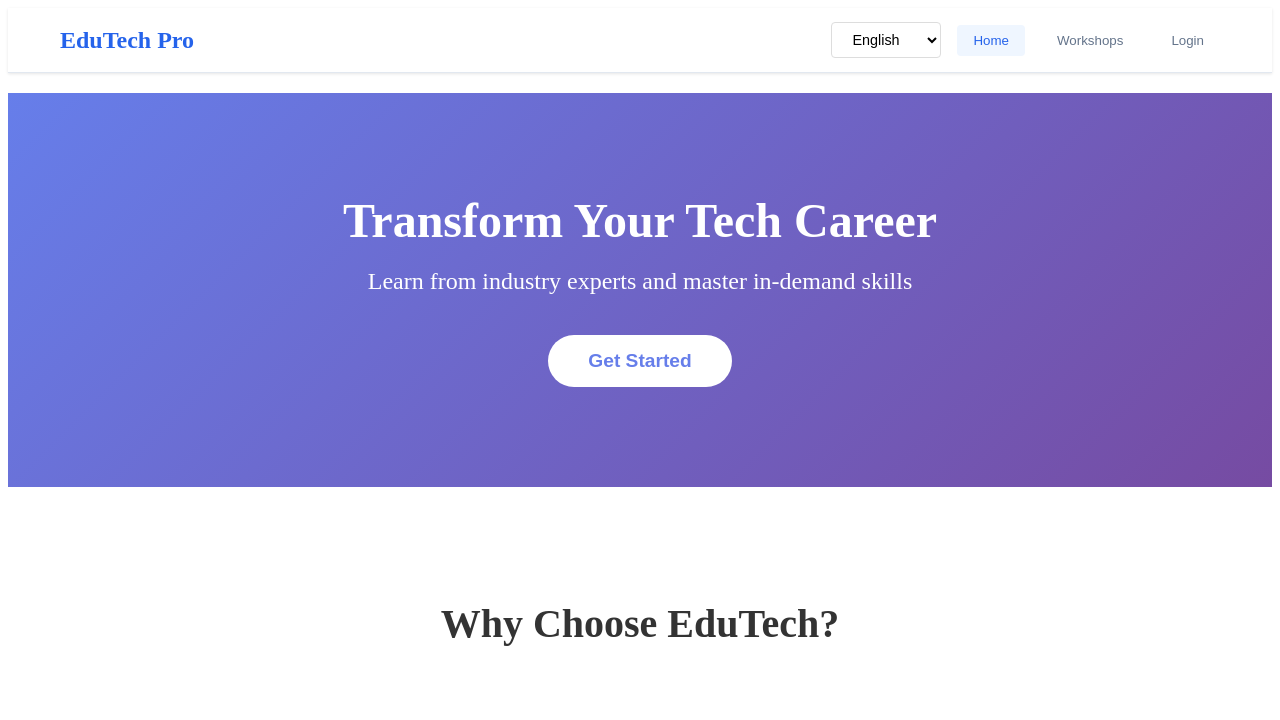
Form Validation › Login Form › should login with valid credentials
The width and height of the screenshot is (1280, 720).
Click the button "Login" at (1188, 41), box [1155,25,1220,56]
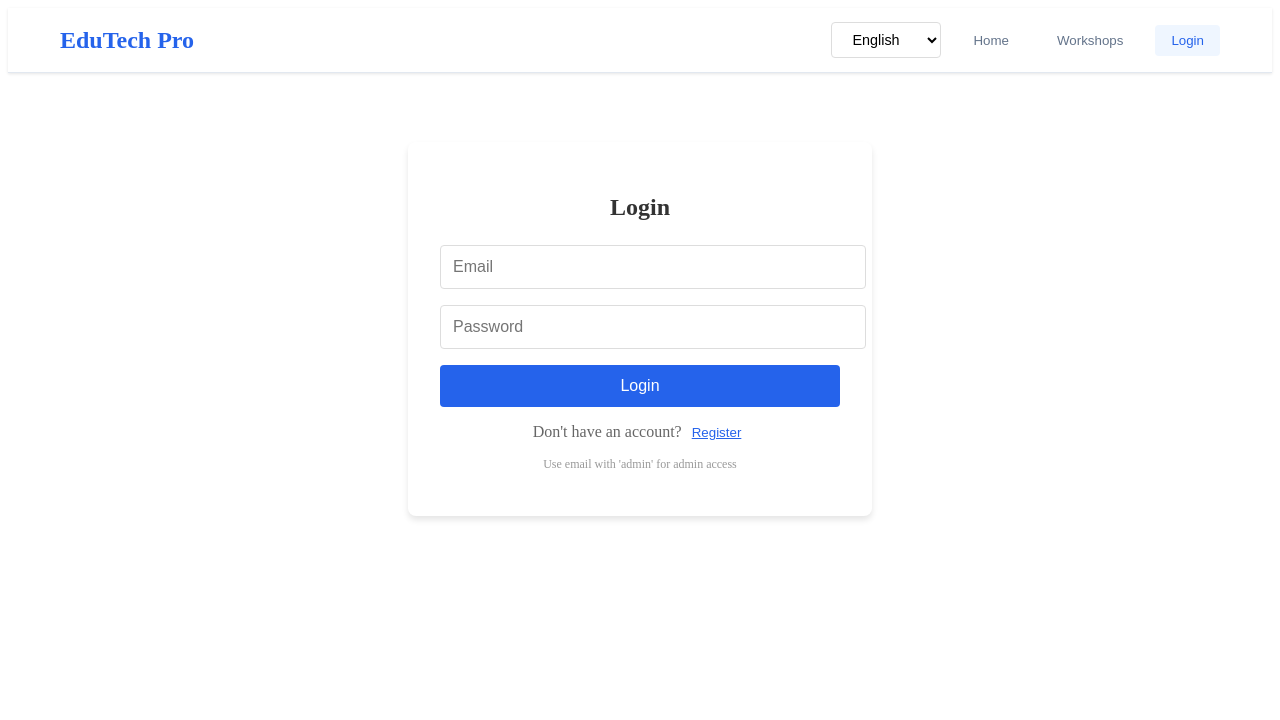
Type "user@example.com" into the field with placeholder "Email" at (653, 267), box [440,245,866,289]
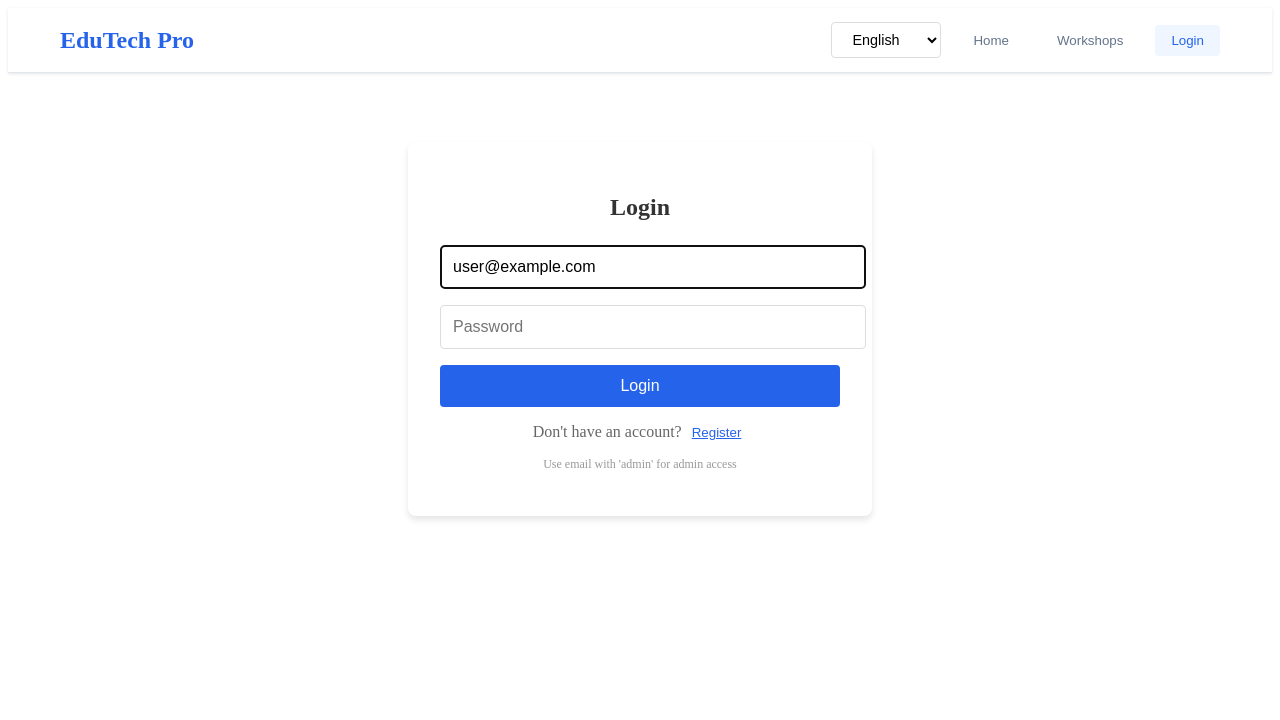
Type "password" into the password field with placeholder "Password" at (653, 327), box [440,305,866,349]
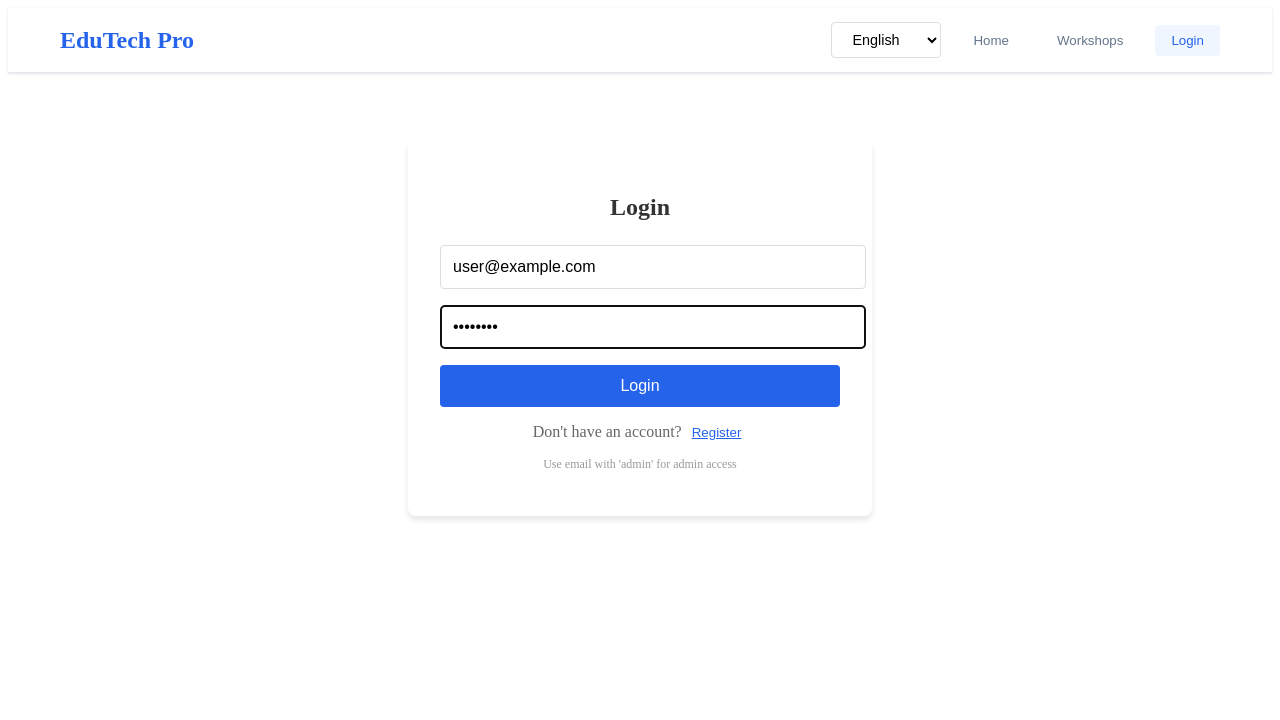
Click the submit button at (640, 386), box [440,365,840,407]
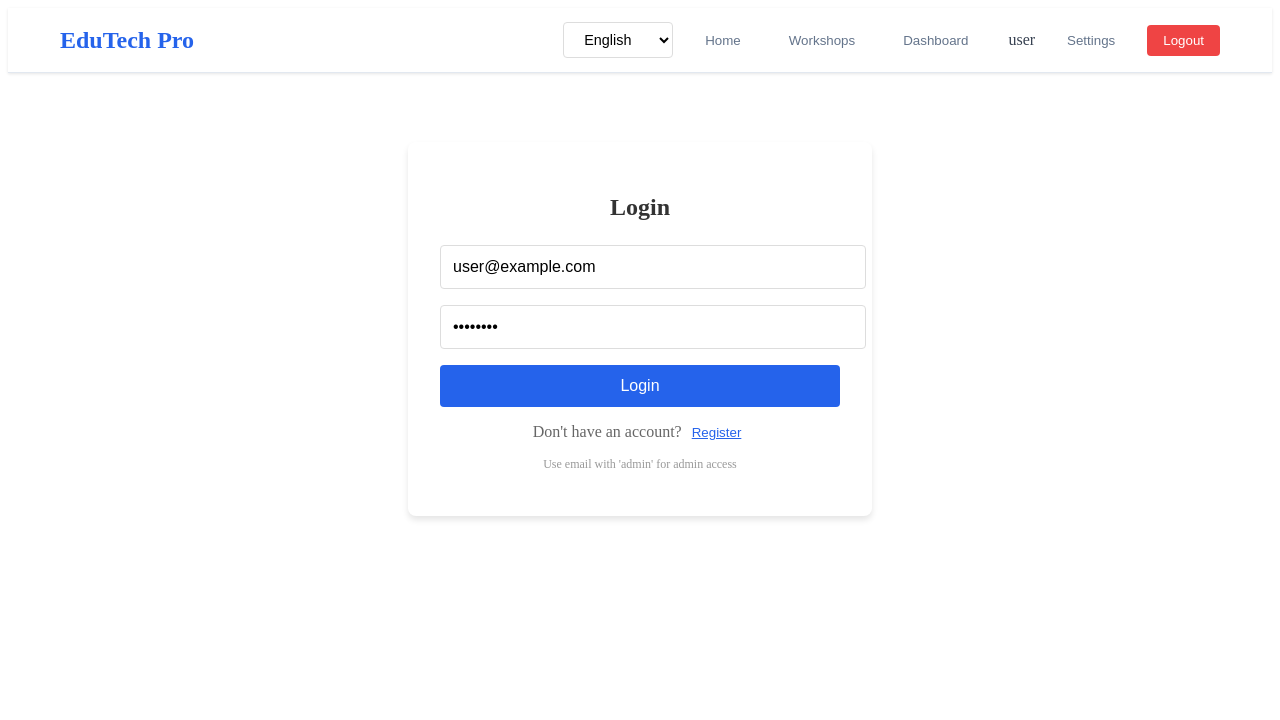
Expected: the text "user" is shown, [1008,31,1035,49]
